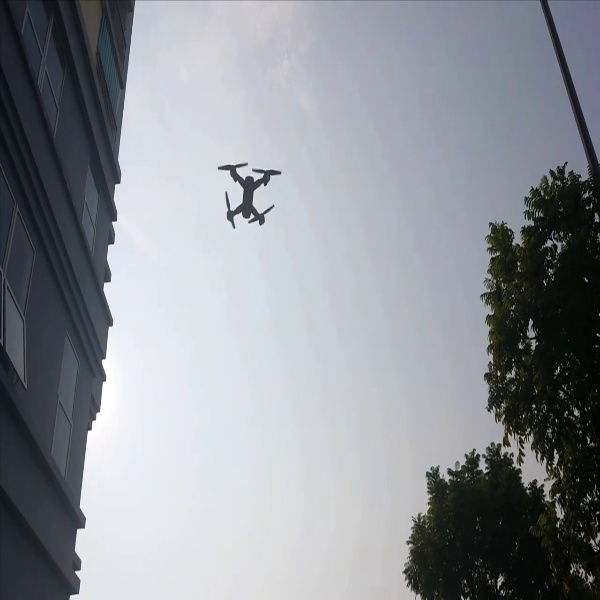drone: (205, 158, 288, 241)
